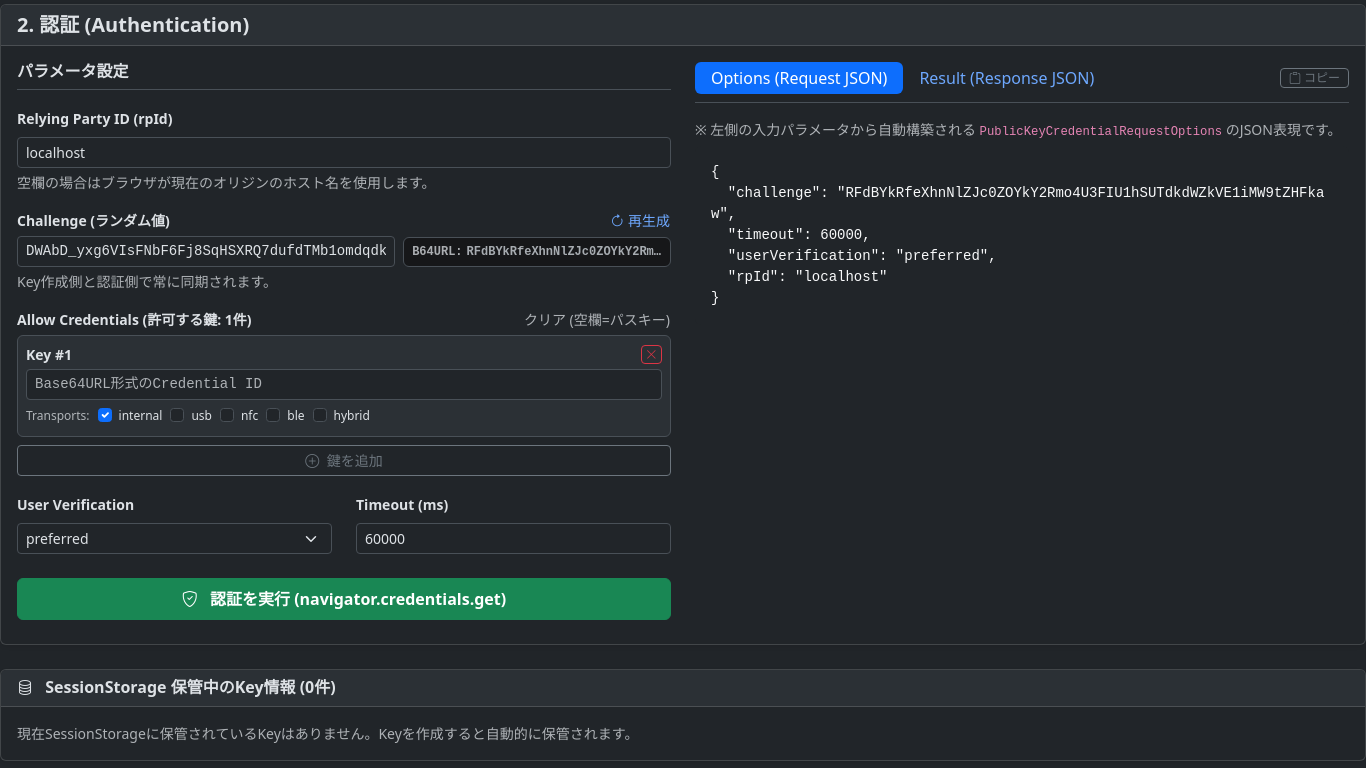
Test: DevelopFido.vue › updates authentication options JSON in real-time when inputs change
The width and height of the screenshot is (1366, 768).
(page scrolled)
Type "test-cred-id-123" into the field with id "authCredentialId" at x=344, y=385, box [26,369,662,400]
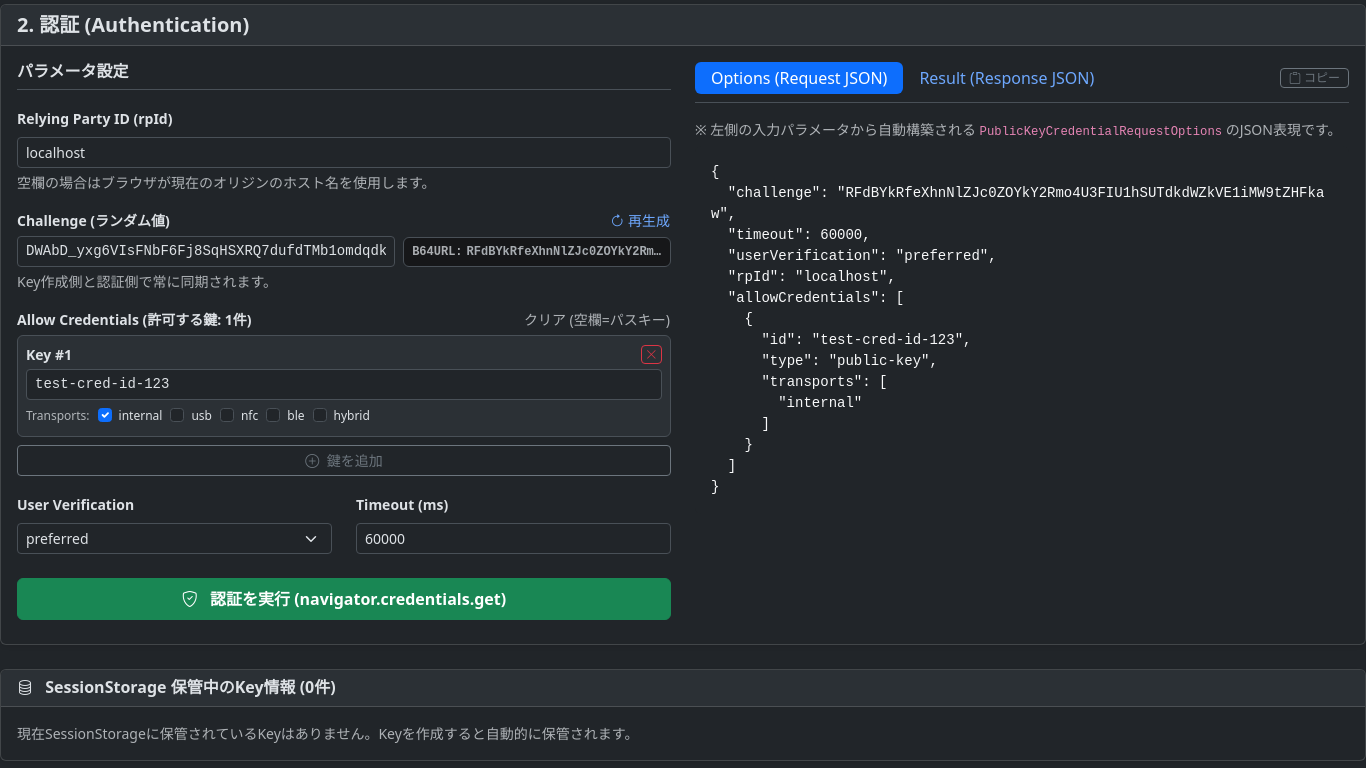
Check: the text with id "authOptionsJson" shows "test-cred-id-123", box [711,164,1324,495]
